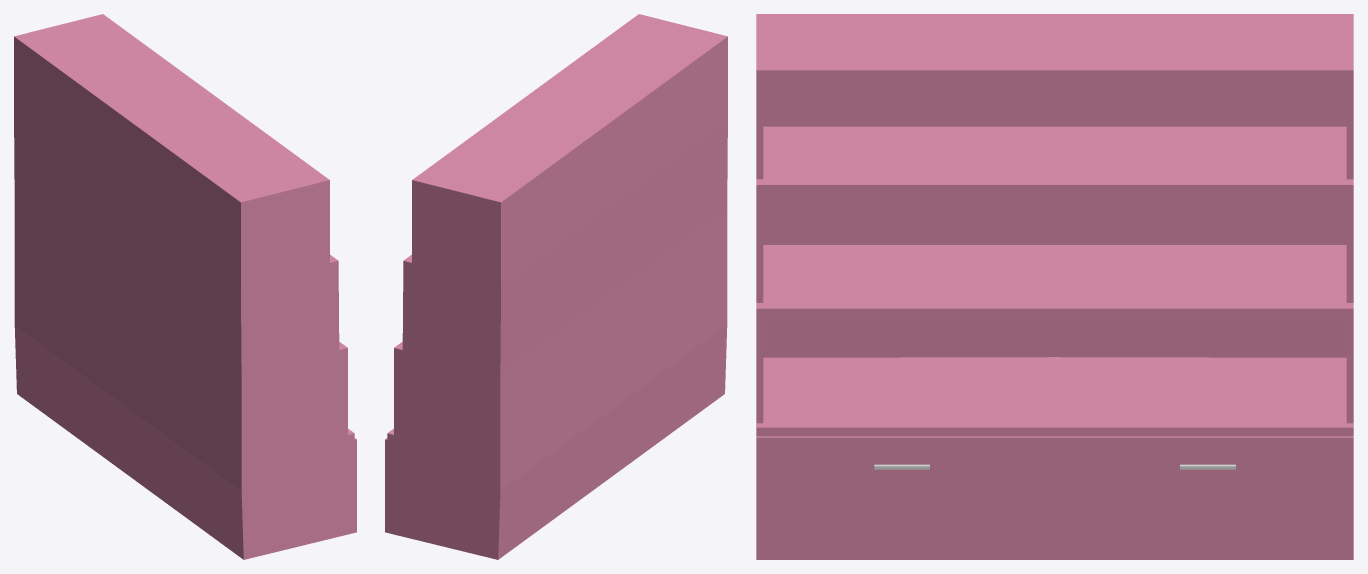
Rendered from Shelf.fbx.
3 renders of one model, left to right at view 1: azimuth 30°, elevation 25°; view 2: azimuth 150°, elevation 25°; view 3: azimuth 270°, elevation 25°, orthographic. The views are drawn at different scales.
Visible parts, largest first — view 1: Cube.001; view 2: Cube.001; view 3: Cube.001.
Part boxes in pixels (x1=…): Cube.001: x1=14, y1=14, x2=356, y2=559; Cube.001: x1=385, y1=14, x2=727, y2=559; Cube.001: x1=756, y1=14, x2=1353, y2=559.
Bounding box in the file's own units: 426 × 1236 × 1416.
